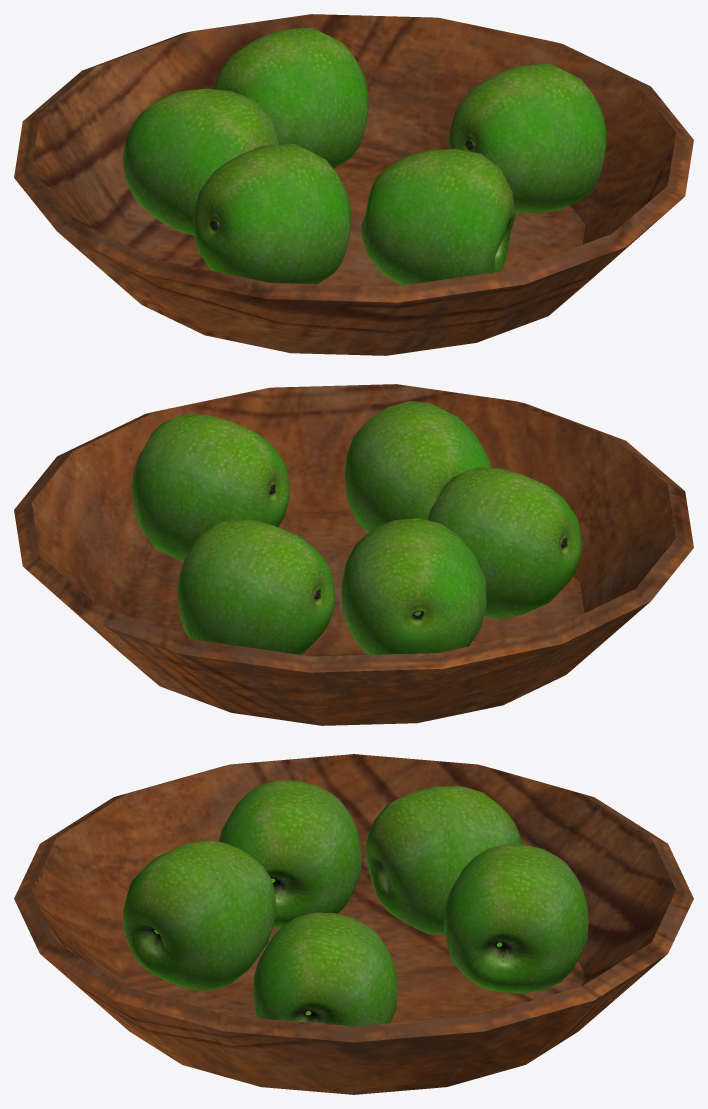
Rendered from basket_Apple.FBX.
3 renders of one model, top to bottom at view 1: azimuth 30°, elevation 25°; view 2: azimuth 150°, elevation 25°; view 3: azimuth 270°, elevation 25°, orthographic.
Parts seen in each view (by area): view 1: Basket_Appels; view 2: Basket_Appels; view 3: Basket_Appels.
Part boxes in pixels (x1,y1,x2,y2): Basket_Appels: (14, 14, 693, 355); Basket_Appels: (14, 384, 693, 725); Basket_Appels: (14, 754, 693, 1094).
Bounding box in the file's own units: 337 × 83.37 × 337.
Materials: 1 (1 with a texture image).
